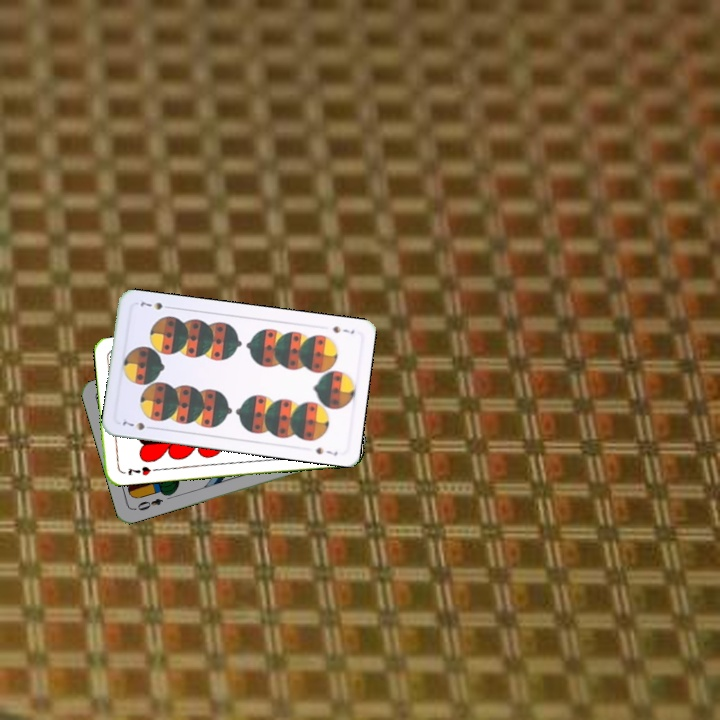EO: (130, 494, 165, 513)
H7: (124, 462, 153, 478)
S7: (118, 417, 157, 433), (329, 322, 357, 336)
